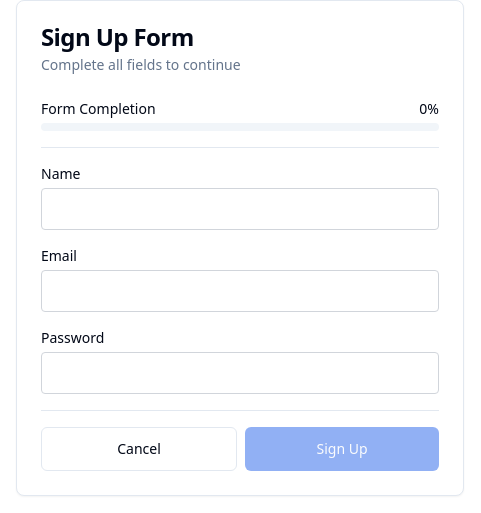
Test: Component Integration Tests › Form with Progress and Validation Integration › should update progress as form is filled
The image size is (481, 513).
Expected: the text "0%" is shown, x1=419 y1=99 x2=439 y2=119
Type "John Doe" into the field labelled "Name" at {"x": 240, "y": 209}, box x1=41 y1=188 x2=439 y2=230
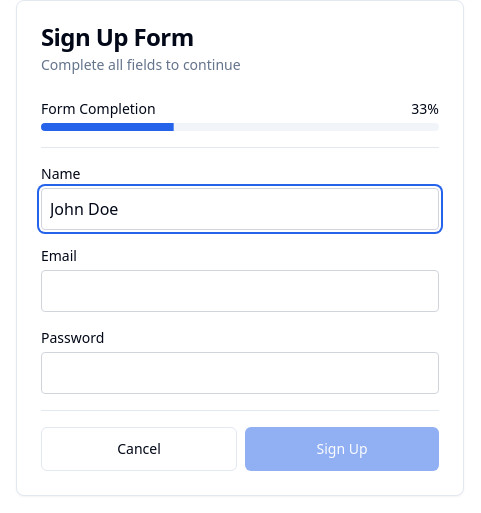
Expected: the text "33%" is shown, x1=411 y1=99 x2=439 y2=119
Type "john@example.com" into the field labelled "Email" at {"x": 240, "y": 291}, box x1=41 y1=270 x2=439 y2=312
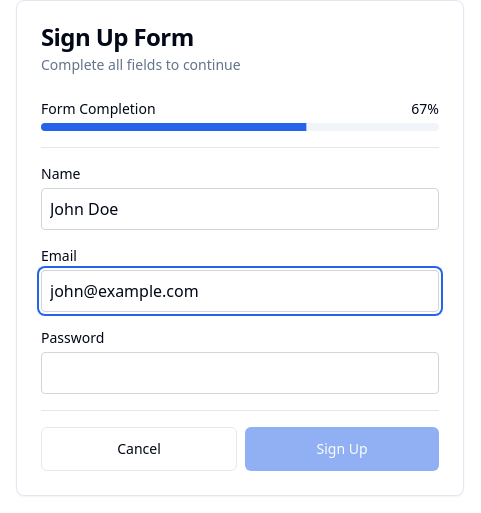
Expected: the text "67%" is shown, x1=411 y1=99 x2=439 y2=119
Type "password123" into the password field labelled "Password" at {"x": 240, "y": 373}, box x1=41 y1=352 x2=439 y2=394
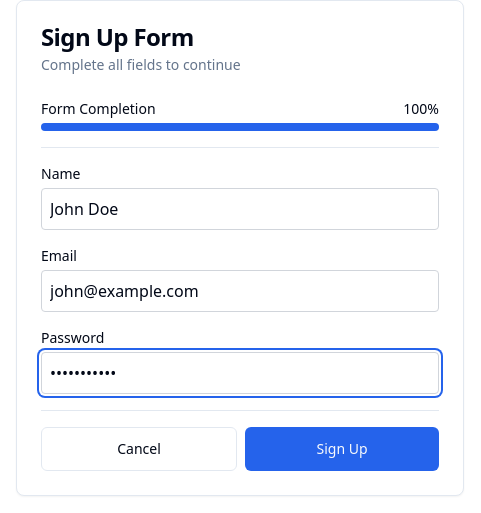
Expected: the text "100%" is shown, x1=403 y1=99 x2=439 y2=119
